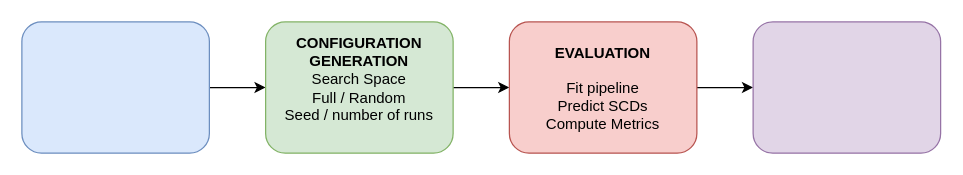
Image size: 963x175. Some labels were removed from this diagram. Here are the shapes that lost their labels. From the top down, the centre of each, then its label:
At [115,87]: "INPUTS Pipeline Annotation Ground Truth".
At [846,87]: "SELECTION & OUTPUT Ranking configs Best config Rest Pipeline Results".
